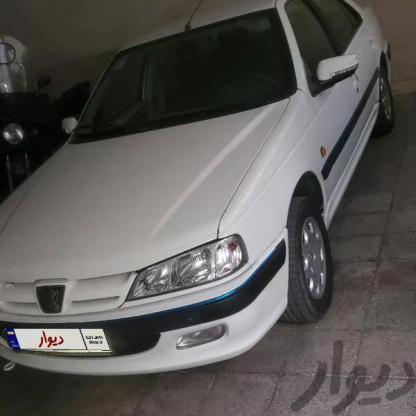Car: (0, 0, 383, 392)
